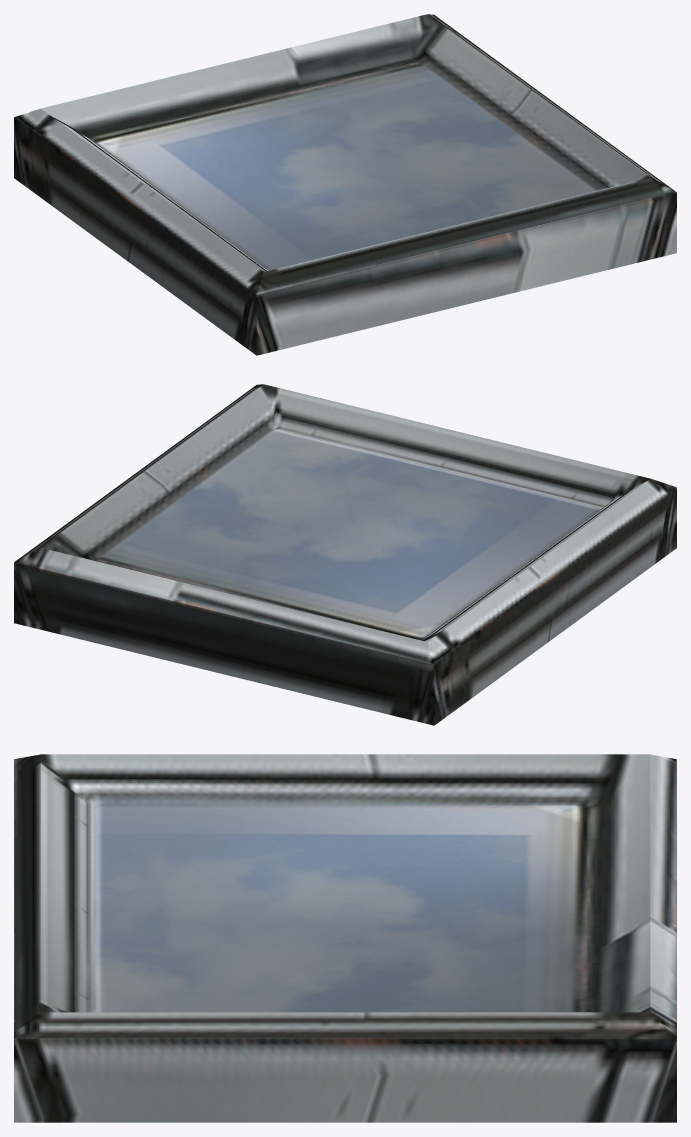
File: vasistas.obj
3 views of the same model, one above another, from view 1: azimuth 30°, elevation 25°; view 2: azimuth 150°, elevation 25°; view 3: azimuth 270°, elevation 25° (orthographic). The views are drawn at different scales.
Parts seen in each view (by area): view 1: pCube1; view 2: pCube1; view 3: pCube1.
Part boxes in pixels (x1,y1,x2,y2): pCube1: (14,14,676,355); pCube1: (14,384,676,725); pCube1: (14,754,676,1122).
Bounding box in the file's own units: 200 × 32.97 × 200.
1 material, 1 textured.
